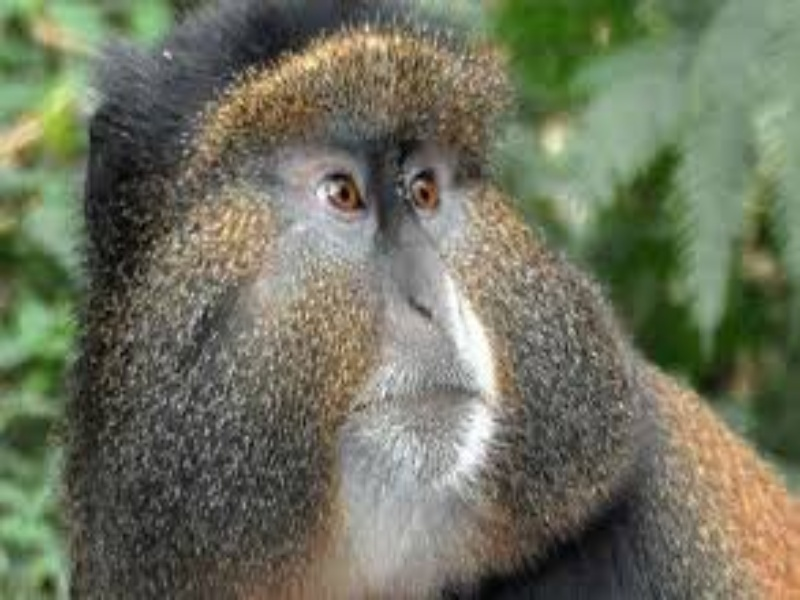monkey: (73, 17, 776, 588)
